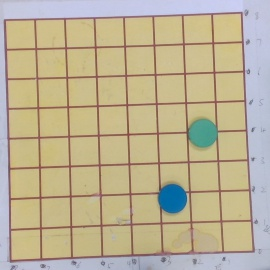blue: (157, 183, 187, 213)
green: (188, 119, 218, 149)
